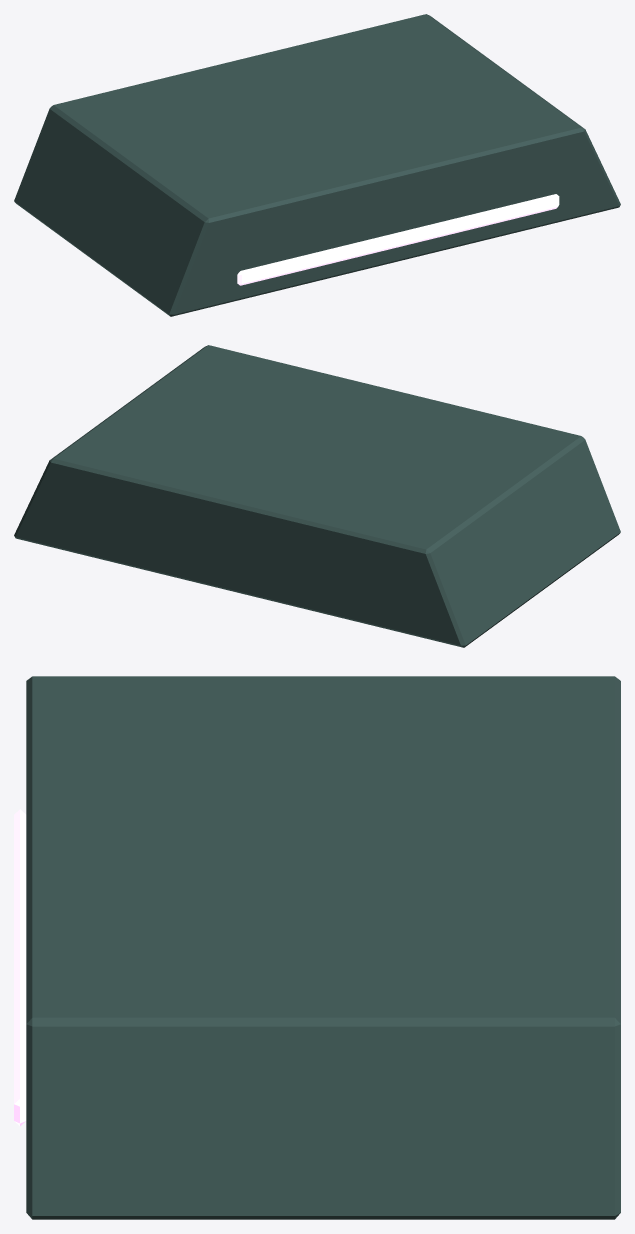
File: Plate3D_Base.gltf
3 renders of one model, top to bottom at view 1: azimuth 30°, elevation 25°; view 2: azimuth 150°, elevation 25°; view 3: azimuth 270°, elevation 25°, orthographic. The views are drawn at different scales.
Visible parts, largest first — view 1: Plate3D_Base_baked; view 2: Plate3D_Base_baked; view 3: Plate3D_Base_baked.
Part boxes in pixels (left/top/right/bottom): Plate3D_Base_baked: left=14, top=14, right=620, bottom=316; Plate3D_Base_baked: left=14, top=345, right=620, bottom=647; Plate3D_Base_baked: left=14, top=676, right=620, bottom=1219.
Bounding box in the file's own units: 0.9551 × 0.18 × 0.592.
